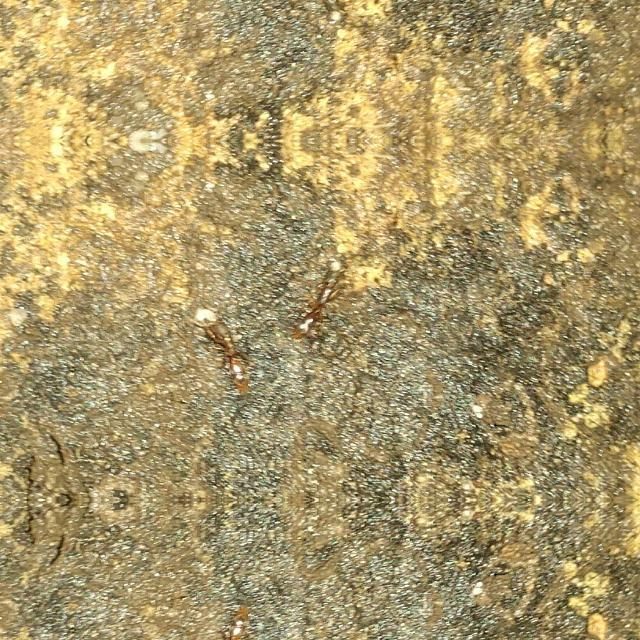Ponera: (292, 232, 352, 344), (197, 298, 259, 406), (197, 592, 259, 640), (292, 0, 352, 48)
